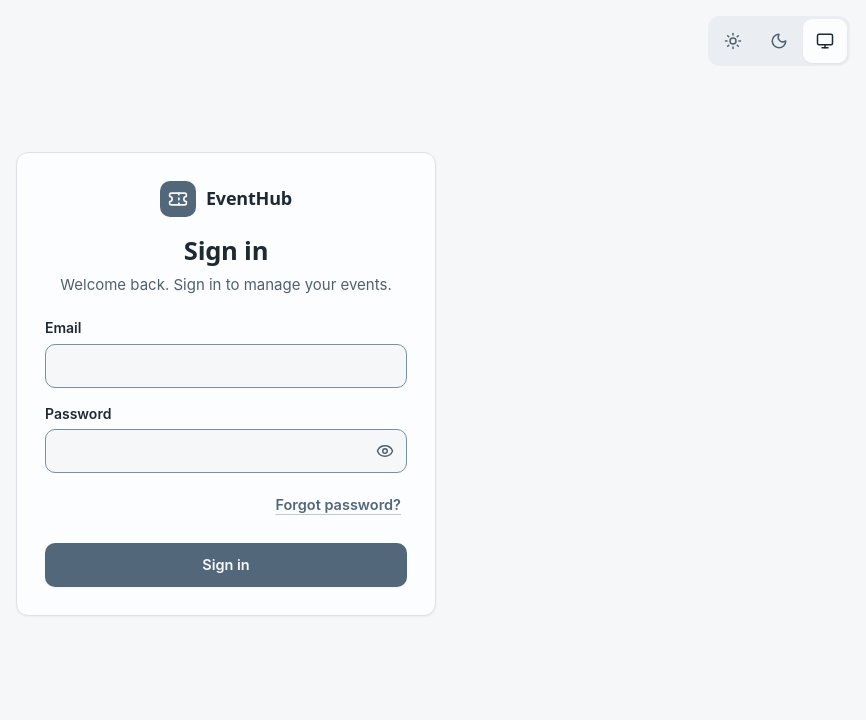
Scenario: LoginPage › shows the offline toast when the network is down and keeps the data
Type "sara@example.test" into the field labelled "Email" at point(226, 366), box [45, 344, 407, 388]
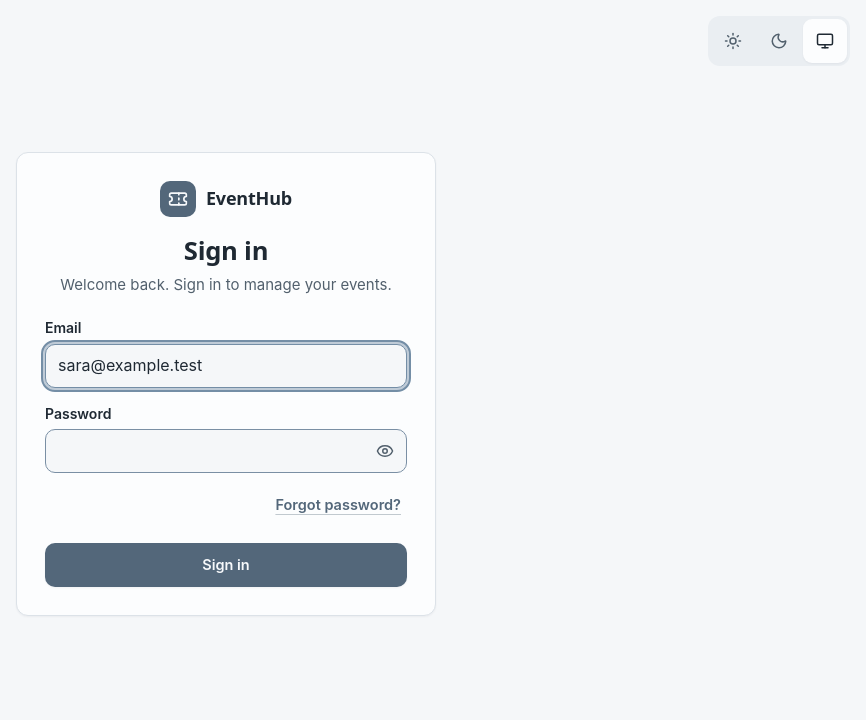
Type "secret" into the password field labelled "Password" at point(226, 451), box [45, 429, 407, 473]
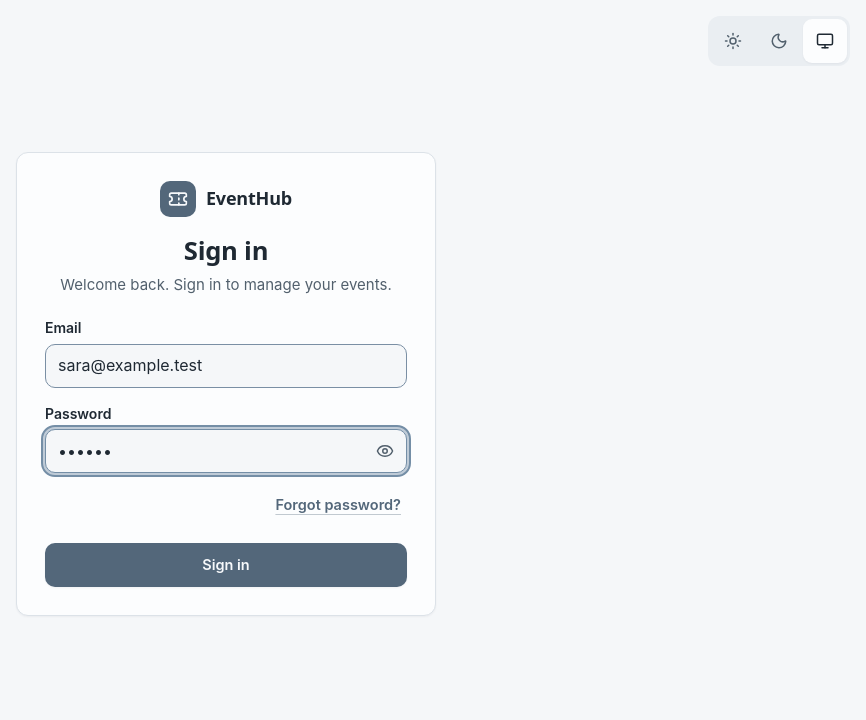
Click the button "Sign in" at point(226, 565), box [45, 543, 407, 587]
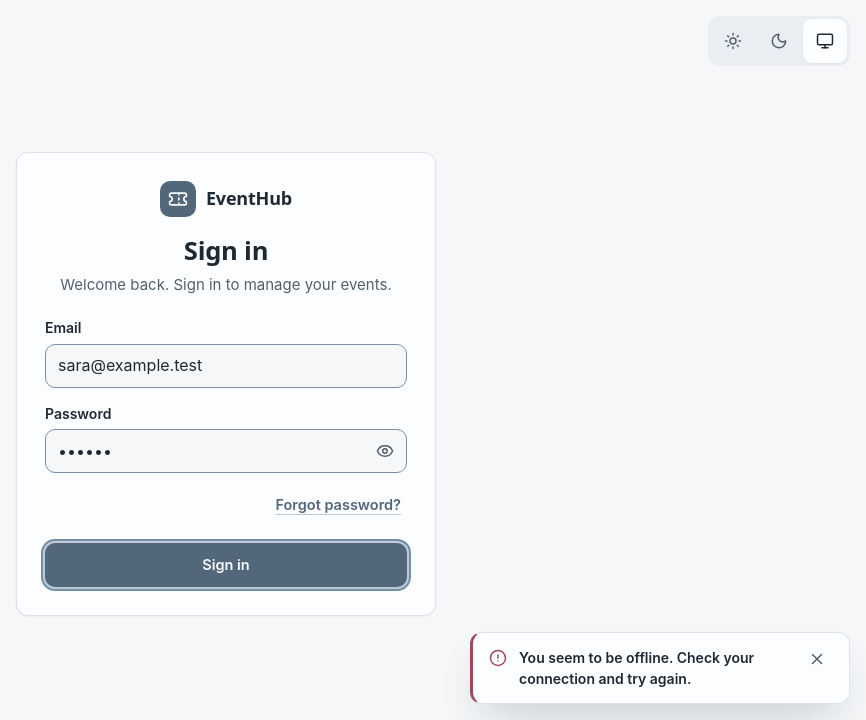
Now the text "You seem to be offline. Check your connection and try again." is shown, box [519, 647, 783, 689]
